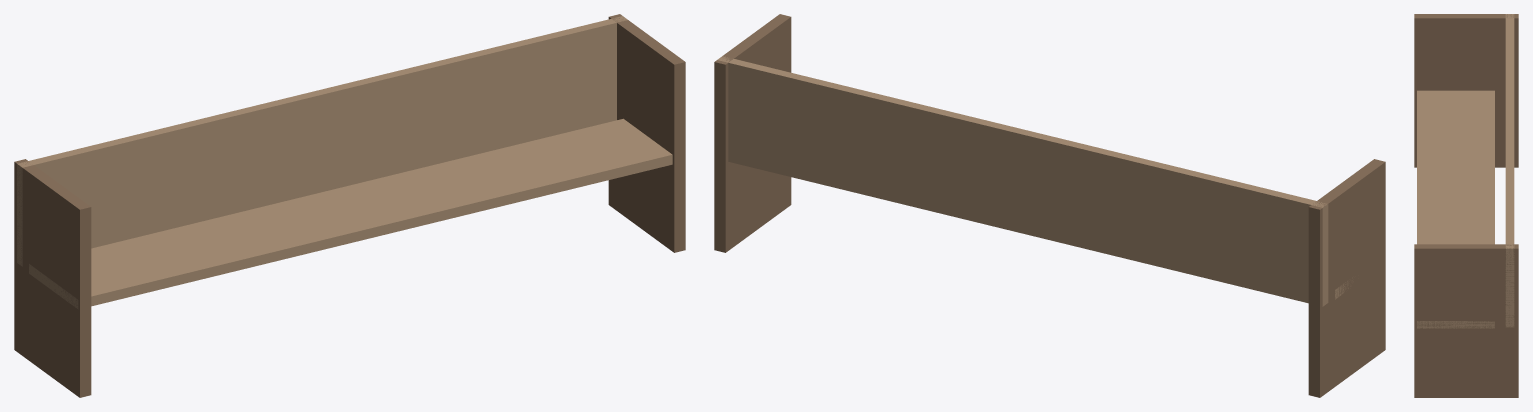
The model's file is 1763-Furniture-interiors-pew.glb.
The picture shows the model from 3 angles, left to right: view 1: azimuth 30°, elevation 25°; view 2: azimuth 150°, elevation 25°; view 3: azimuth 270°, elevation 25°; orthographic projection. The views are drawn at different scales.
Visible parts, largest first — view 1: Furniture (interiors)/pew; view 2: Furniture (interiors)/pew; view 3: Furniture (interiors)/pew.
Part boxes in pixels (left/top/right/bottom): Furniture (interiors)/pew: left=14, top=14, right=685, bottom=397; Furniture (interiors)/pew: left=714, top=14, right=1385, bottom=397; Furniture (interiors)/pew: left=1414, top=14, right=1518, bottom=397.
Bounding box in the file's own units: 3.2 × 0.95 × 0.6.
